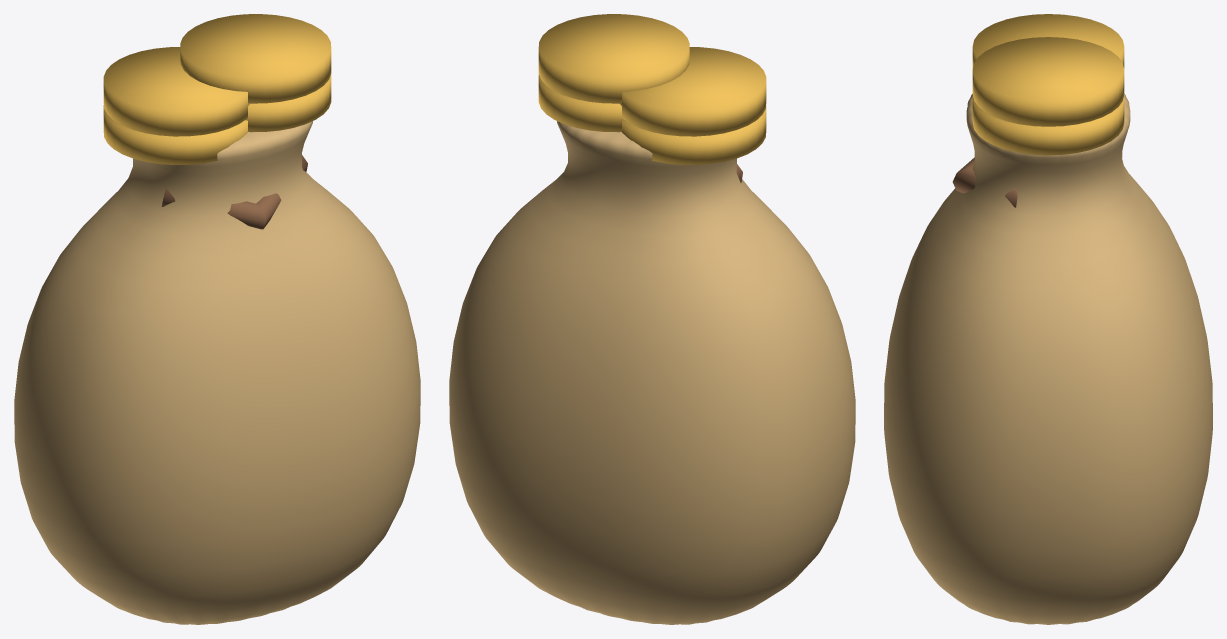
Rendered from money_bag.glb.
3 views of the same model, side by side, from view 1: azimuth 30°, elevation 25°; view 2: azimuth 150°, elevation 25°; view 3: azimuth 270°, elevation 25° (orthographic).
Visible parts, largest first — view 1: money_bag_crafted_mesh; view 2: money_bag_crafted_mesh; view 3: money_bag_crafted_mesh.
Boxes of the visible parts, x1,y1,x2,y2 form: money_bag_crafted_mesh: (14,14,420,624); money_bag_crafted_mesh: (449,14,855,624); money_bag_crafted_mesh: (884,14,1212,624).
Bounding box in the file's own units: 0.6563 × 0.958 × 0.5211.
